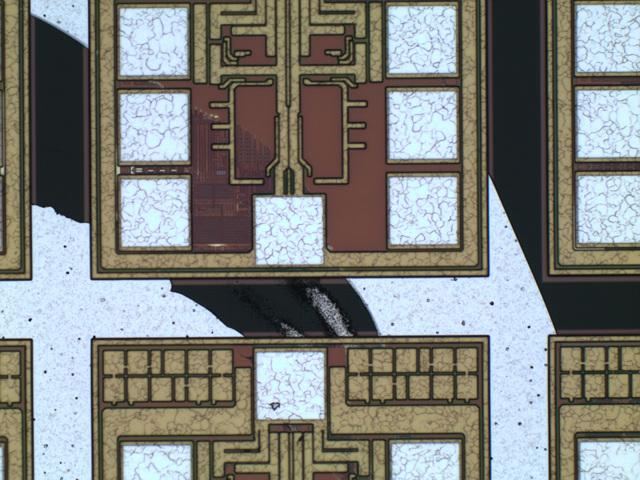BLOCK ETCH: (1, 1, 391, 354)
